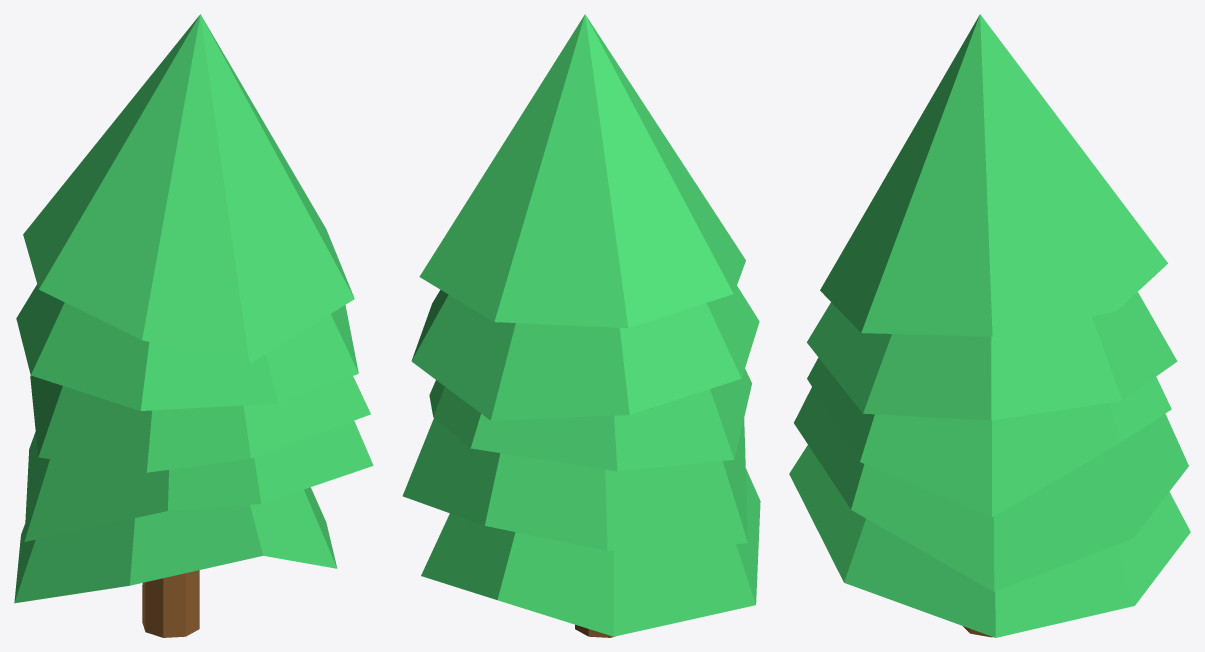
The model's file is agac3.fbx.
3 views of the same model, side by side, from view 1: azimuth 30°, elevation 25°; view 2: azimuth 150°, elevation 25°; view 3: azimuth 270°, elevation 25° (orthographic). The views are drawn at different scales.
Parts seen in each view (by area): view 1: ağaç2; view 2: ağaç2; view 3: ağaç2.
Boxes of the visible parts, x1,y1,x2,y2 form: ağaç2: [14, 14, 373, 637]; ağaç2: [402, 14, 760, 637]; ağaç2: [789, 14, 1190, 637].
Size of the model in its own units: 1.92 by 3.33 by 1.95.
